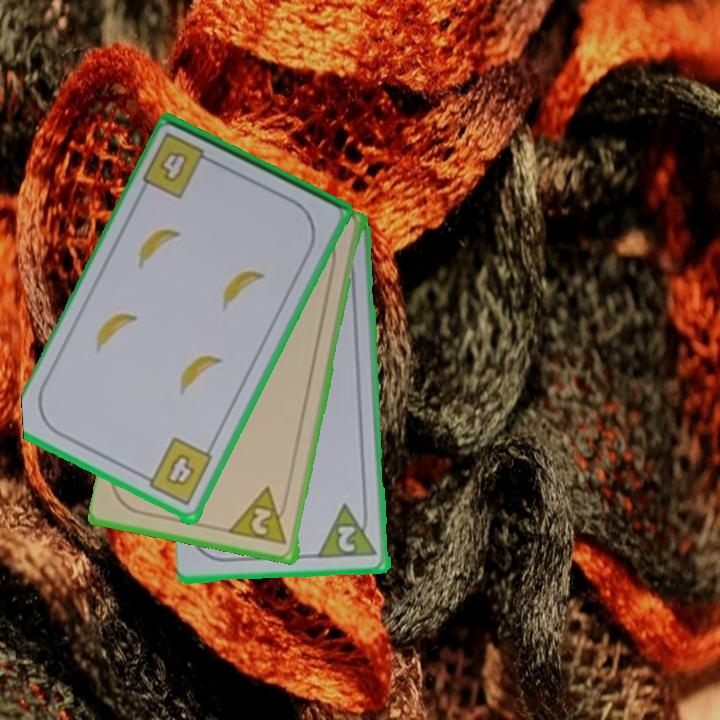2p: (228, 484, 290, 548), (334, 522, 358, 556)
4b: (137, 435, 216, 509), (156, 148, 192, 187)
